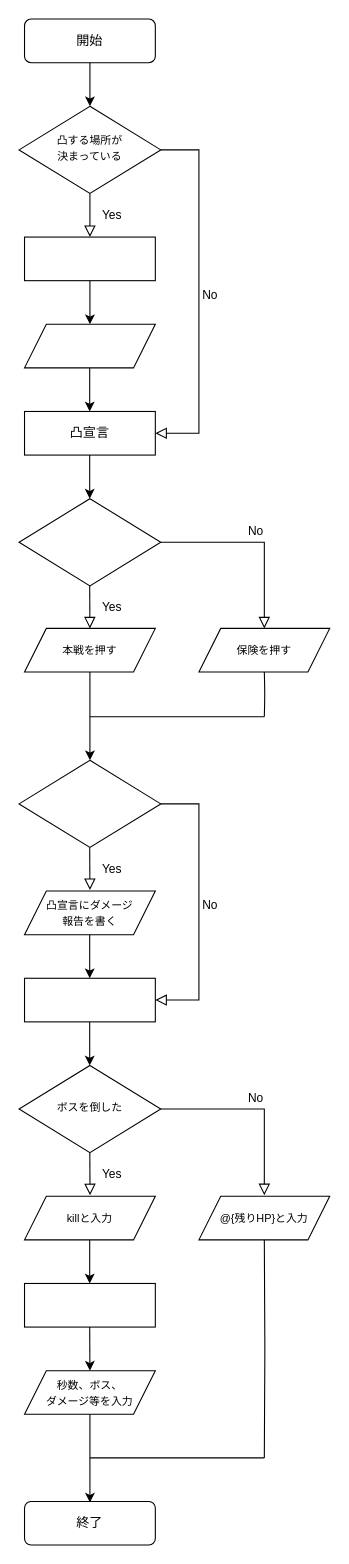
The diagram is 349 pixels wide and 1564 high, and some of its shapes have lost their labels. Here are the shapes that lost their labels. From the top down, the centre of each, then its label:
(x=89, y=258): 凸予定
(x=89, y=345): ボス番号と予想 ダメージ等を記入
(x=89, y=542): 本戦凸の場合
(x=89, y=803): ダメージ報告が必要
(x=89, y=999): 凸報告
(x=89, y=1304): 持ち越し状況
